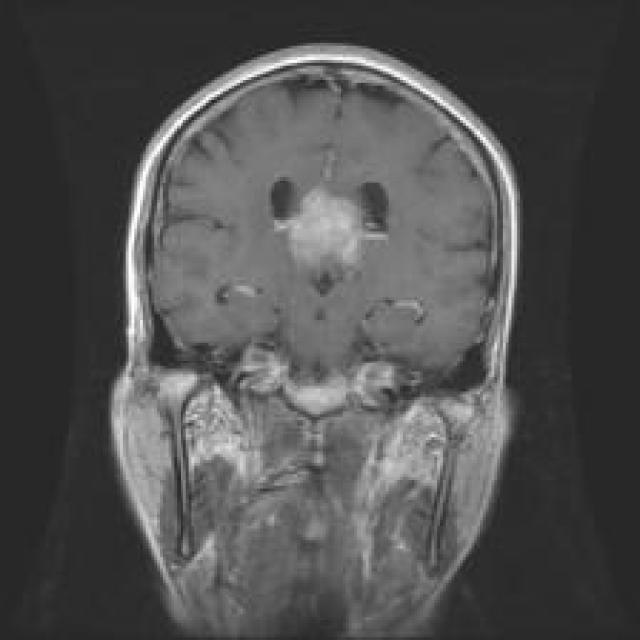meningioma_tumor: (281, 164, 374, 300)
